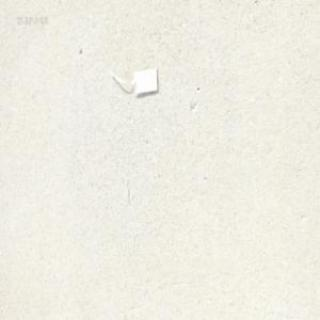LuggageTagtrack_idkeyframe: (105, 63, 160, 97)
